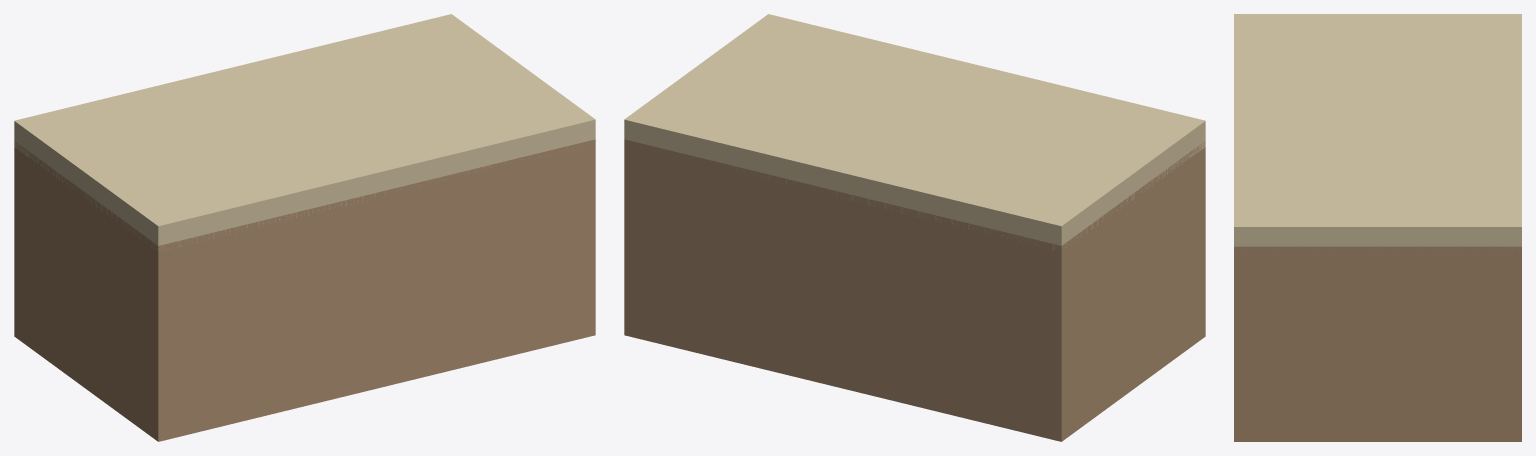
File: lobster_trap.glb
3 views of the same model, side by side, from view 1: azimuth 30°, elevation 25°; view 2: azimuth 150°, elevation 25°; view 3: azimuth 270°, elevation 25° (orthographic).
Visible parts, largest first — view 1: trap, trap_top; view 2: trap, trap_top; view 3: trap_top, trap.
Boxes of the visible parts, left/top/right/bottom form: trap: left=14, top=139, right=595, bottom=441; trap_top: left=14, top=14, right=595, bottom=251; trap: left=624, top=139, right=1205, bottom=441; trap_top: left=624, top=14, right=1205, bottom=251; trap_top: left=1234, top=14, right=1521, bottom=250; trap: left=1234, top=246, right=1521, bottom=441.
Size of the model in its own units: 1.4 by 0.6598 by 0.7998.
